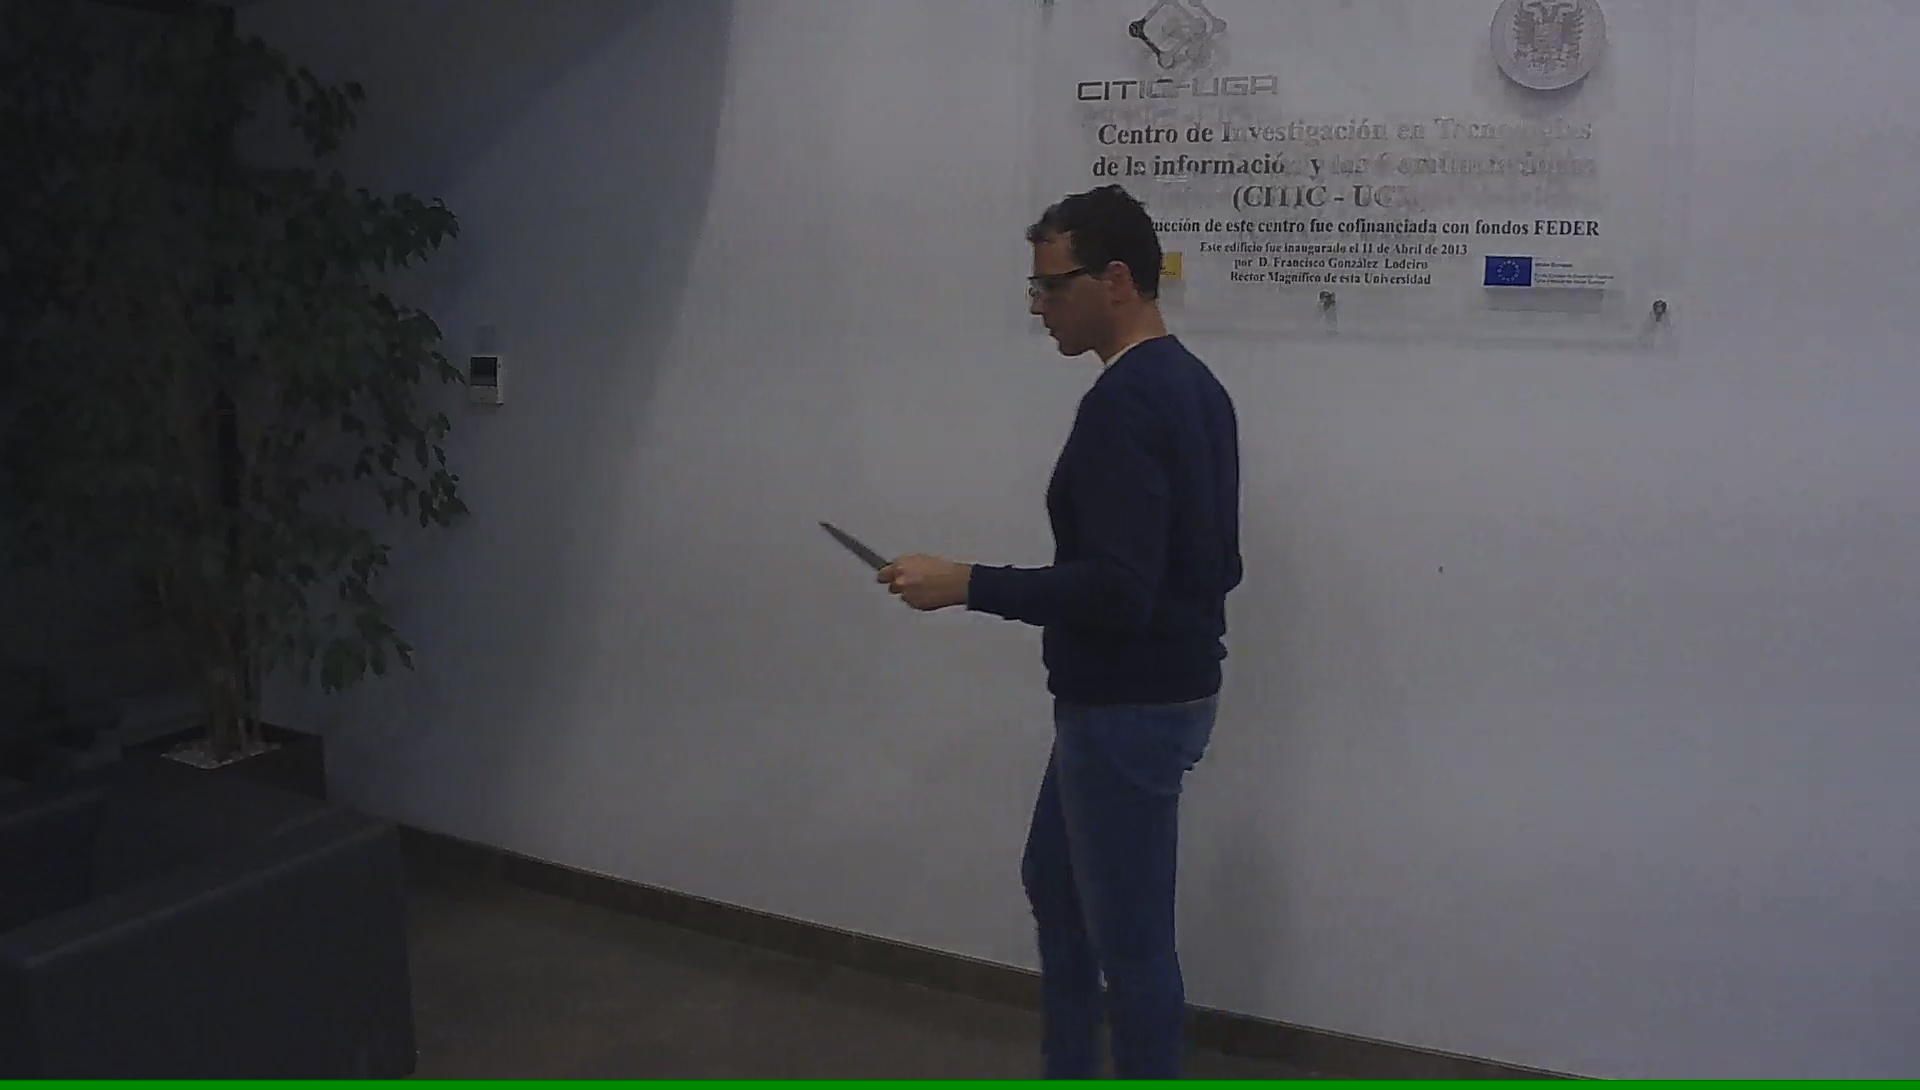knife: (812, 513, 938, 616)
